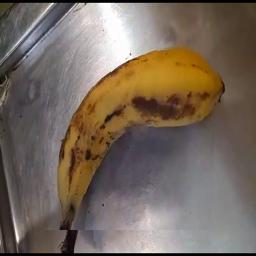Banana Semirotten: (45, 45, 219, 231)
